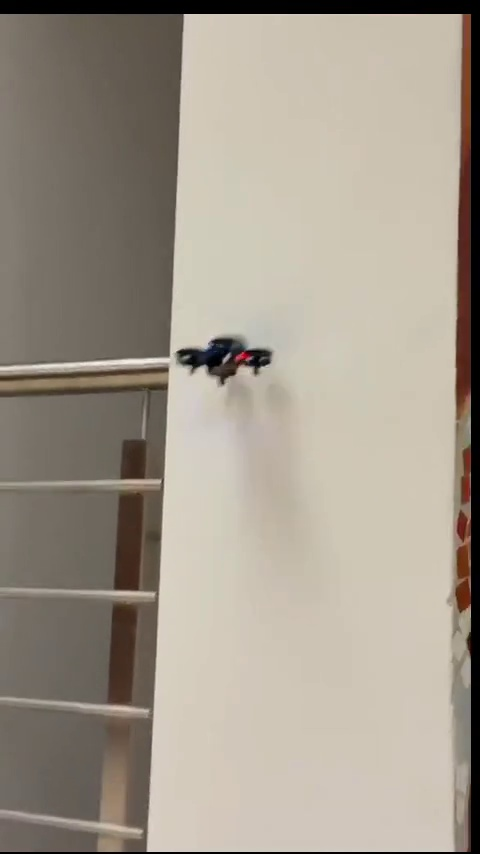drone: (178, 336, 272, 386)
